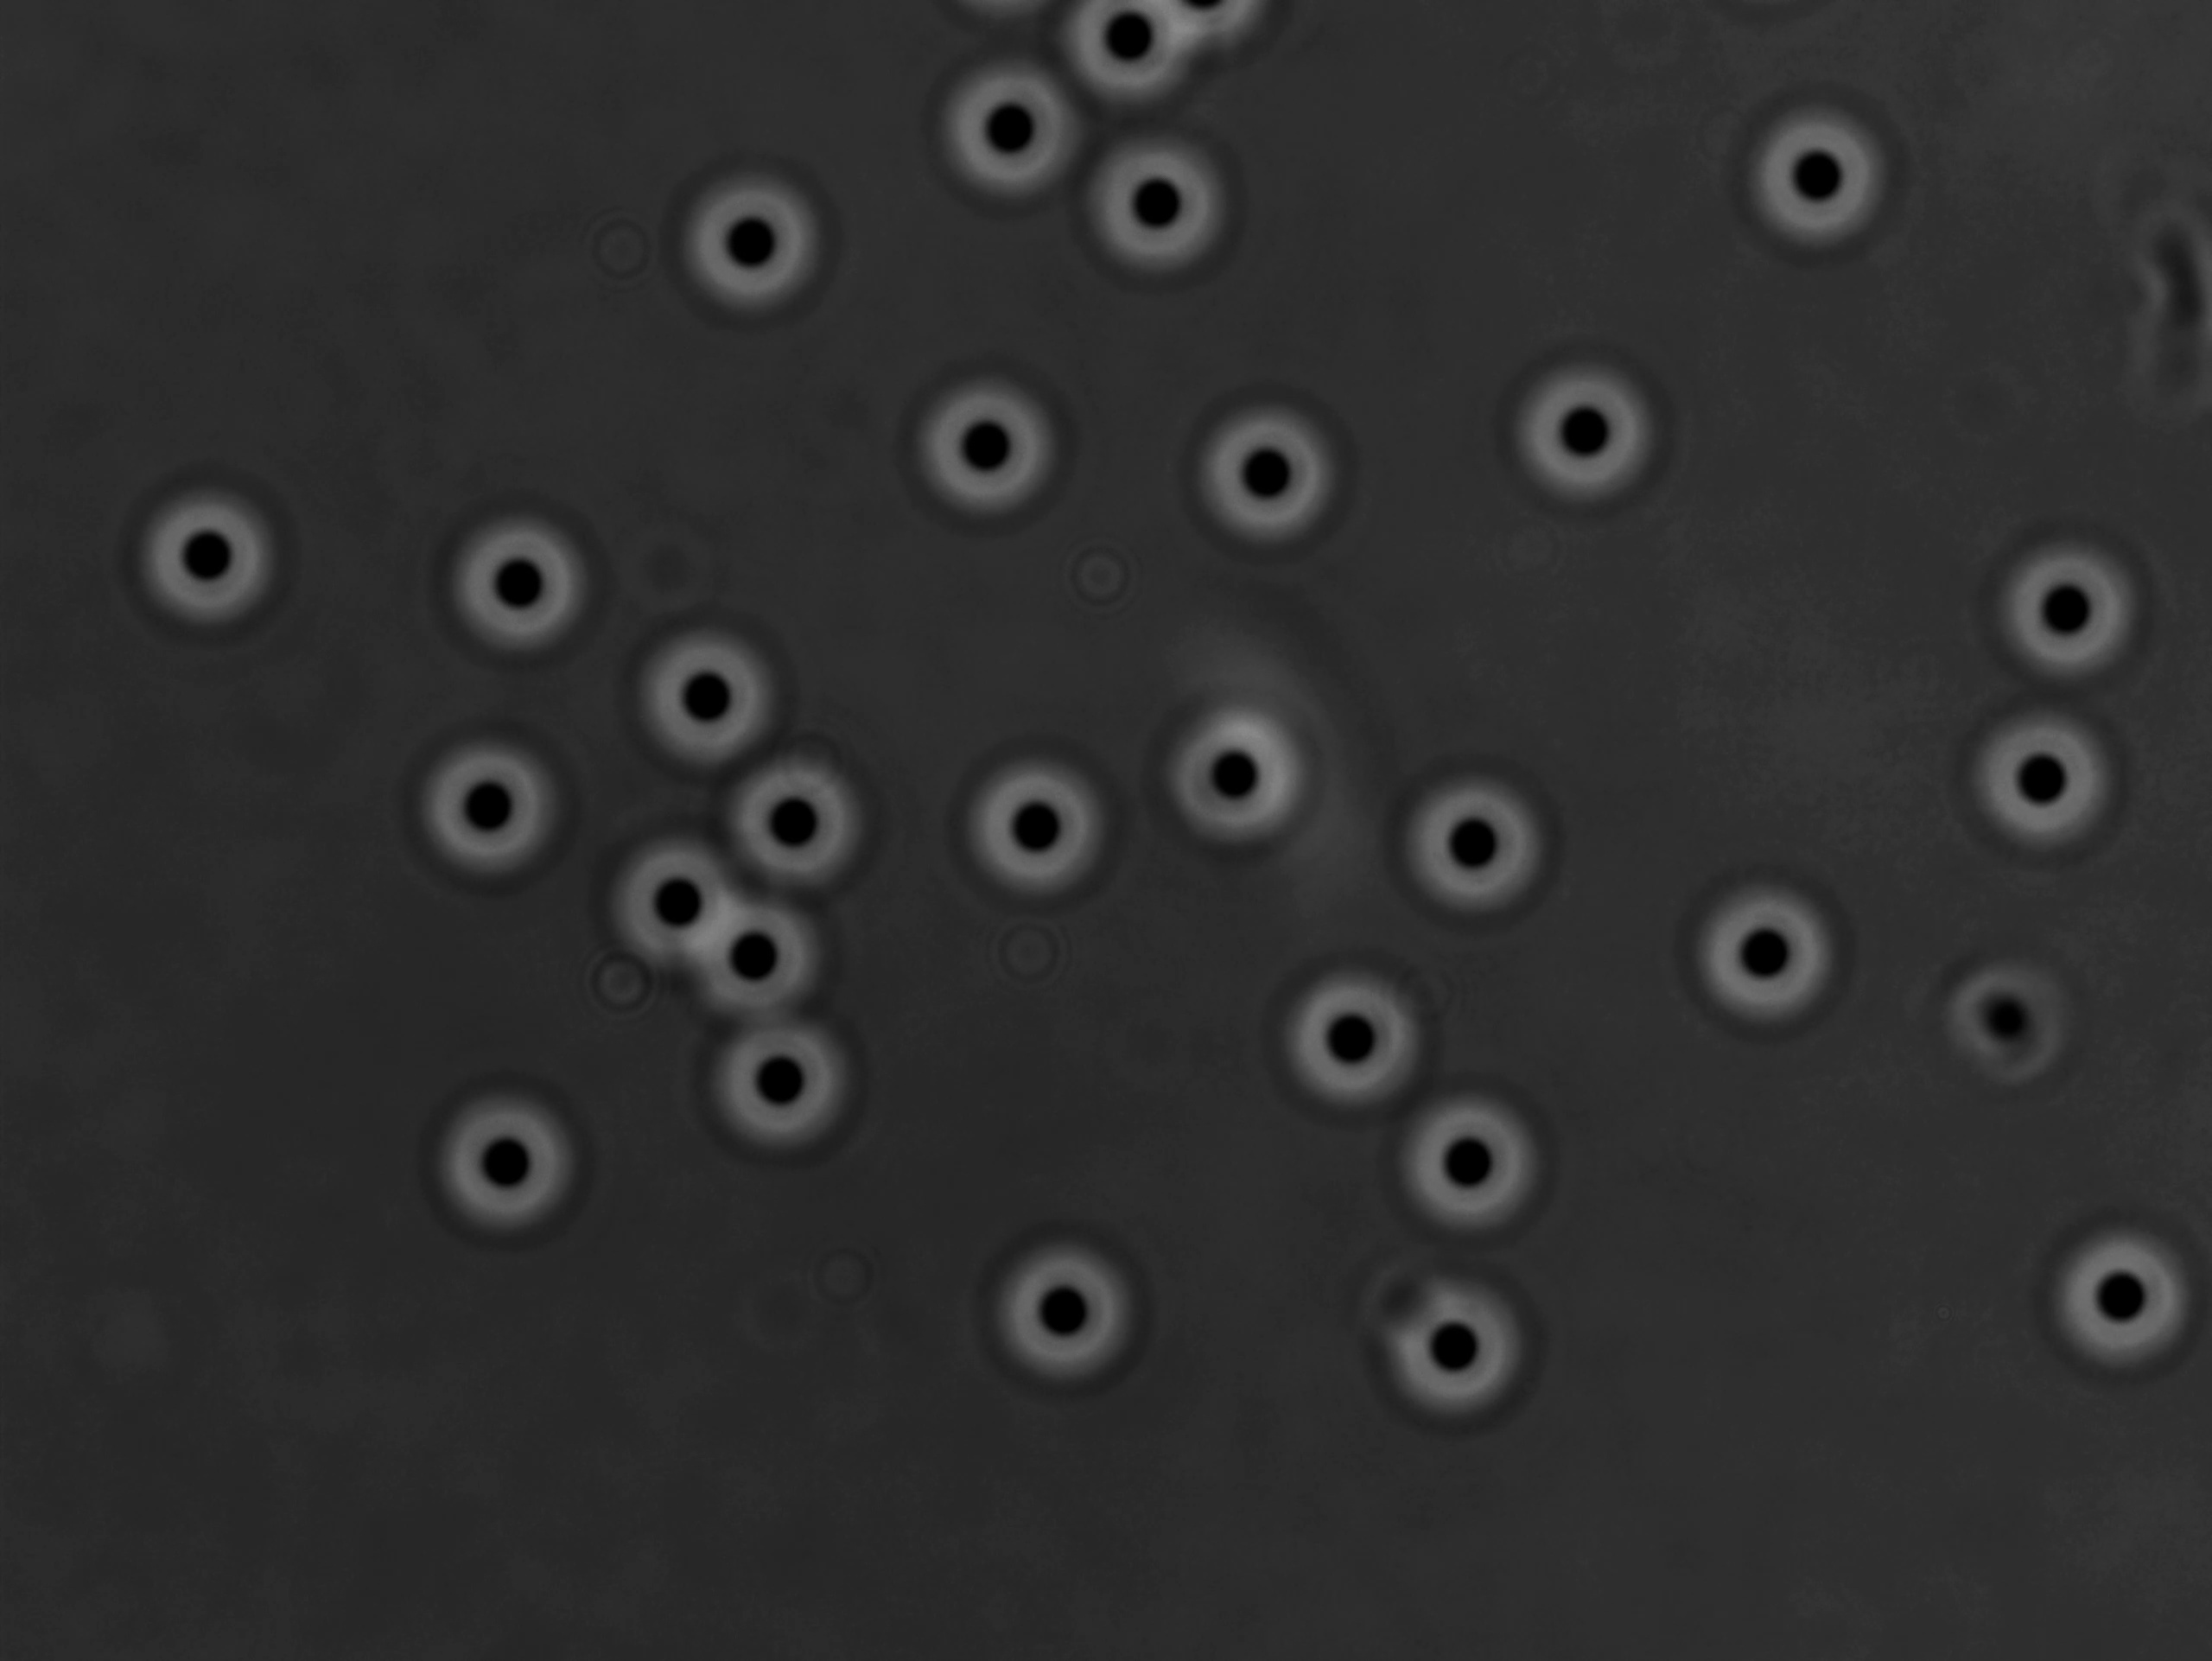depth:-40: (1671, 857, 1856, 1038), (1947, 691, 2133, 867), (1385, 754, 1567, 933), (942, 738, 1127, 913), (1066, 122, 1251, 297), (686, 995, 870, 1164), (1155, 686, 1329, 862), (1375, 1261, 1561, 1424), (1978, 518, 2151, 691), (1729, 89, 1898, 265), (1504, 335, 1671, 513), (673, 143, 839, 323), (904, 356, 1073, 529), (2039, 1209, 2212, 1377), (1383, 1073, 1556, 1235), (1185, 387, 1350, 553), (420, 1078, 590, 1241), (408, 717, 569, 888), (126, 473, 286, 642), (1265, 956, 1434, 1117), (984, 1235, 1144, 1394), (919, 61, 1078, 216), (623, 612, 783, 762), (440, 509, 598, 660), (726, 759, 877, 904), (595, 839, 750, 979), (684, 888, 832, 1029)
